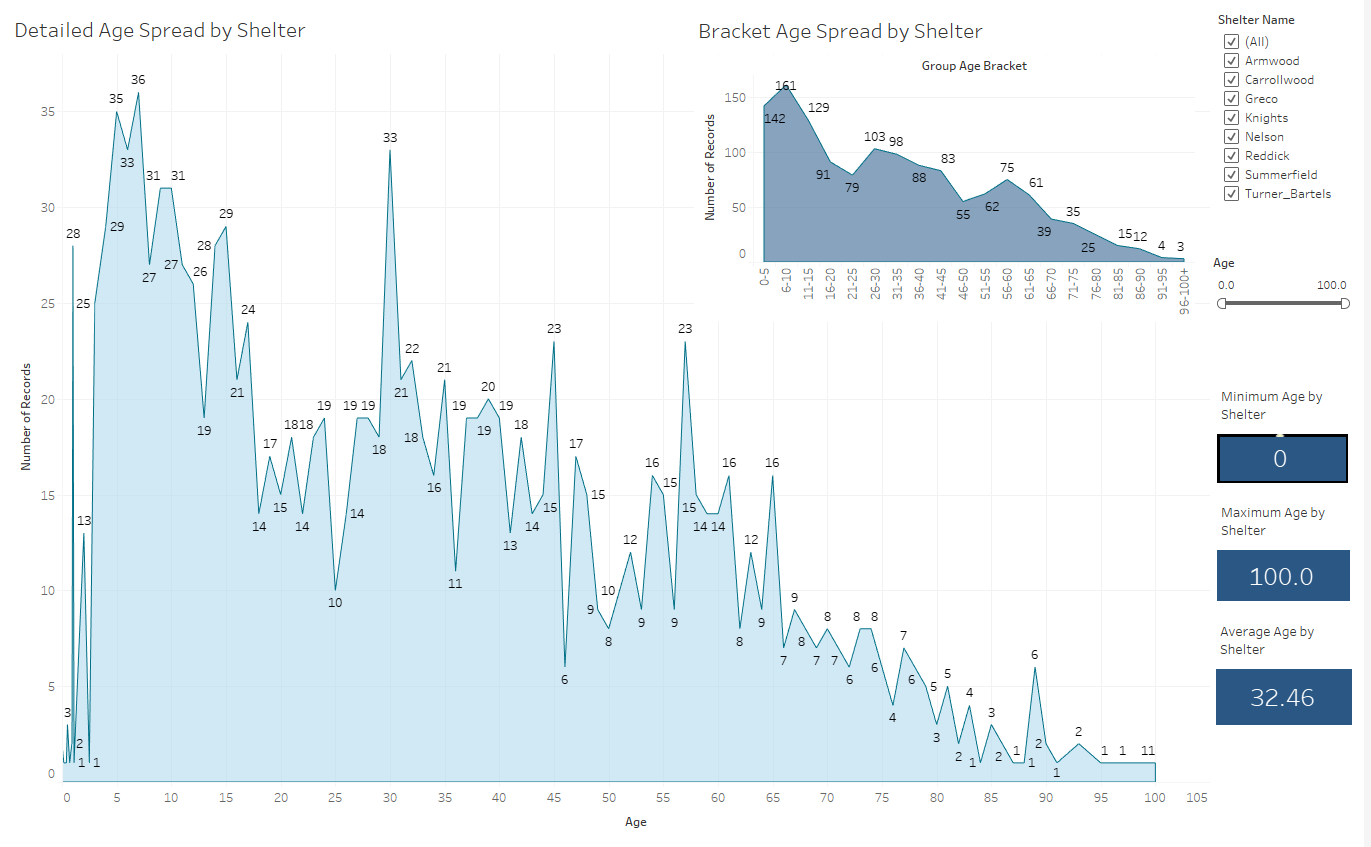

This screenshot's page, from the dashboard's own definition file:
{"tool":"tableau","page":{"name":"Age Spread","canvas":[1366,850],"ordinal":0},"visuals":[{"type":"worksheet","title":"Detailed Age Spread by Shelter","mark":"Area","rows":["Number of Records"],"cols":["Age"],"box":[8,8,1208,834]},{"type":"filter","title":"Detailed Age Spread by Shelter","param":"[federated.15be31n0i91izv1g0m27v0riro1y].[none:shelter_name:nk]","box":[1216,8,142,203]},{"type":"worksheet","title":"Bracket Age Spread by Shelter","mark":"Area","rows":["Number of Records"],"cols":["Group Age Bracket"],"box":[696,13,501,310]},{"type":"filter","title":"Detailed Age Spread by Shelter","param":"[federated.15be31n0i91izv1g0m27v0riro1y].[none:Age:qk]","box":[1214.7,254.9,140.8,77.1]},{"type":"worksheet","title":"Minimum Age by Shelter","mark":"Square","box":[1218.9,384.4,131.3,99.7]},{"type":"worksheet","title":"Maximum Age by Shelter","mark":"Square","box":[1218.9,499.5,133.4,102.8]},{"type":"worksheet","title":"Average Age by Shelter","mark":"Square","box":[1217.8,618.7,136.6,106.9]}]}

Visuals, with their boxes in screenshot pixels (x1, y1, x2, y2), scaled from the page's 1366x850 canvas onto the 1371x847 screenshot:
"Detailed Age Spread by Shelter" worksheet (Area marks): box=[8, 8, 1220, 839]
"Detailed Age Spread by Shelter" filter: box=[1220, 8, 1363, 210]
"Bracket Age Spread by Shelter" worksheet (Area marks): box=[699, 13, 1201, 322]
"Detailed Age Spread by Shelter" filter: box=[1219, 254, 1360, 331]
"Minimum Age by Shelter" worksheet (Square marks): box=[1223, 383, 1355, 482]
"Maximum Age by Shelter" worksheet (Square marks): box=[1223, 498, 1357, 600]
"Average Age by Shelter" worksheet (Square marks): box=[1222, 617, 1359, 723]
